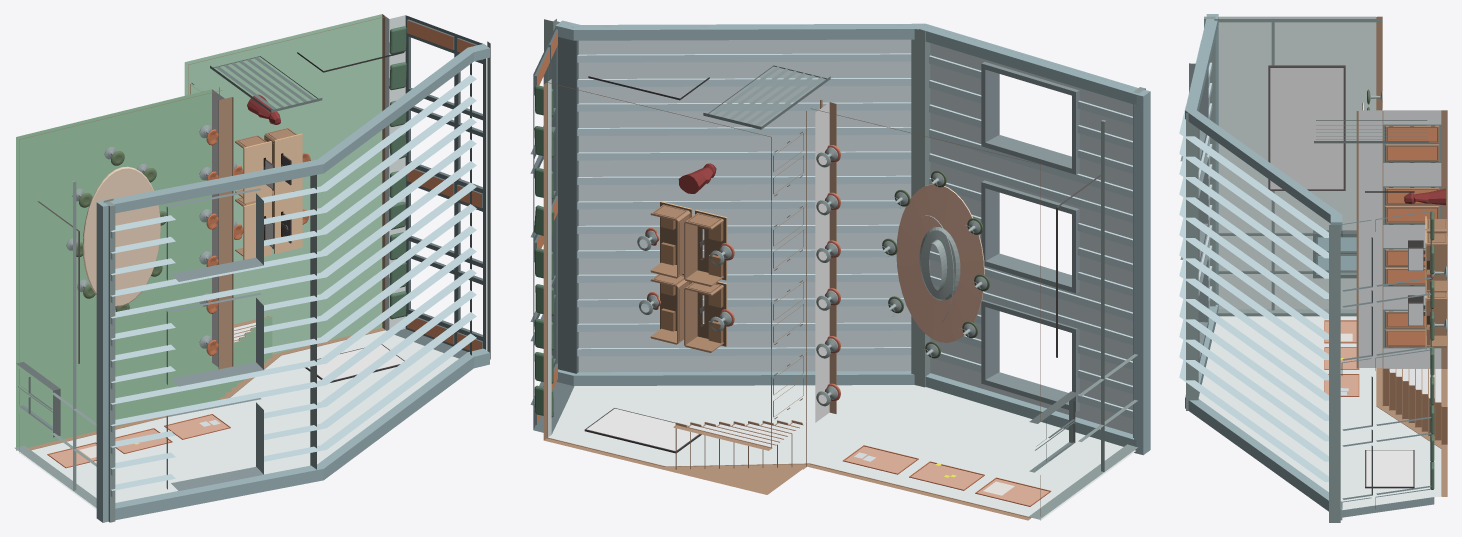
File: Studio_IMU_A.glb
3 renders of one model, left to right at view 1: azimuth 30°, elevation 25°; view 2: azimuth 150°, elevation 25°; view 3: azimuth 270°, elevation 25°, orthographic. The views are drawn at different scales.
Parts seen in each view (by area): view 1: HM_Sol, Toit_Chevrons, Mur, Bords, Verriere, Table_reunion, Toit_poutres, Toit, Muret_Mezzanine, Poufs, Structure_facade, Fenetre (+10 smaller); view 2: Toit, Toit_Chevrons, Mur, Bords, Verriere, Table_reunion, Muret_Mezzanine, Toit_poutres, Poufs, Bureau.004, Structure_facade, Bureau.001 (+11 smaller); view 3: Mur, Toit_Chevrons, Muret_Mezzanine, Ecran.001, Bords, Toit_poutres, Placard, HM_Sol, Verriere, Structure_facade, Ecran.003, Toit (+10 smaller).
Boxes of the visible parts, x1,y1,x2,y2 form: HM_Sol: (16,14,382,450); Toit_Chevrons: (110,74,476,496); Mur: (19,14,458,509); Bords: (96,43,489,522); Verriere: (385,15,486,358); Table_reunion: (82,166,160,306); Toit_poutres: (105,41,490,522); Toit: (166,188,263,490); Muret_Mezzanine: (188,65,233,369); Poufs: (389,26,406,319); Structure_facade: (15,180,113,507); Fenetre: (210,56,322,112); Toit: (557,21,1132,434); Toit_Chevrons: (577,53,1132,418); Mur: (543,82,1135,520); Bords: (555,20,1150,455); Verriere: (530,26,578,437); Table_reunion: (896,184,984,342); Muret_Mezzanine: (771,100,836,447); Toit_poutres: (544,19,1145,437); Poufs: (534,85,554,417); Bureau.004: (684,210,734,286); Structure_facade: (1028,120,1137,519); Bureau.001: (684,281,734,352); Mur: (1198,16,1447,510); Toit_Chevrons: (1179,40,1328,481); Muret_Mezzanine: (1356,110,1447,368); Ecran.001: (1268,65,1345,190); Bords: (1185,14,1342,520); Toit_poutres: (1186,16,1340,522); Placard: (1383,124,1441,348); HM_Sol: (1382,367,1447,444); Verriere: (1341,211,1434,517); Structure_facade: (1214,18,1382,316); Ecran.003: (1365,450,1414,488); Toit: (1180,63,1209,362).
Bounding box in the file's own units: 19.45 × 12.78 × 10.35.
Materials: 1 (1 with a texture image).
